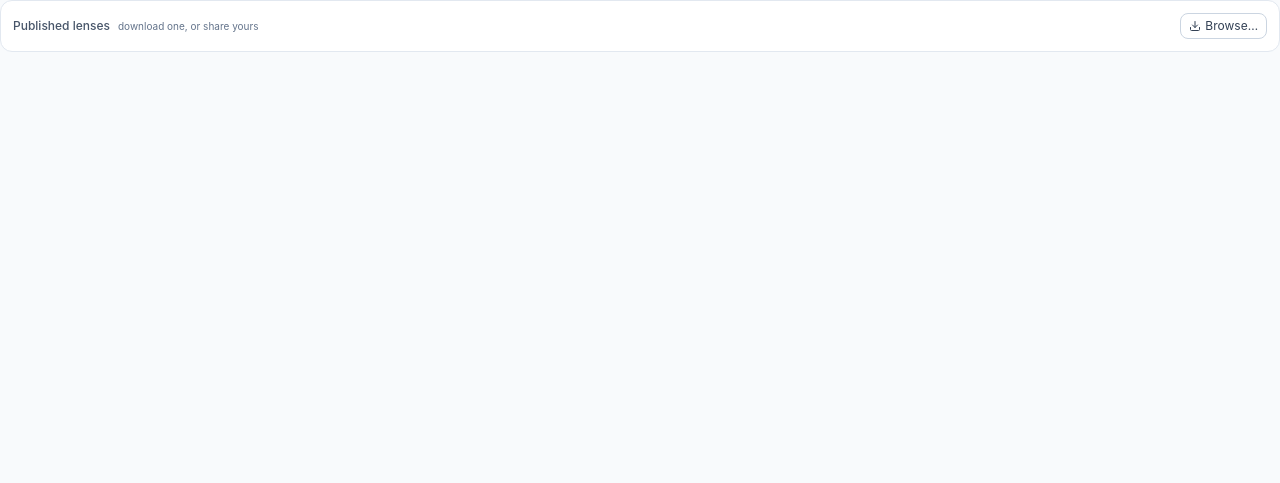
it: acquiring › cannot acquire until a file is chosen
This screenshot has width=1280, height=483.
Click the button "Browse…" at (1224, 26), box [1180,13,1267,39]
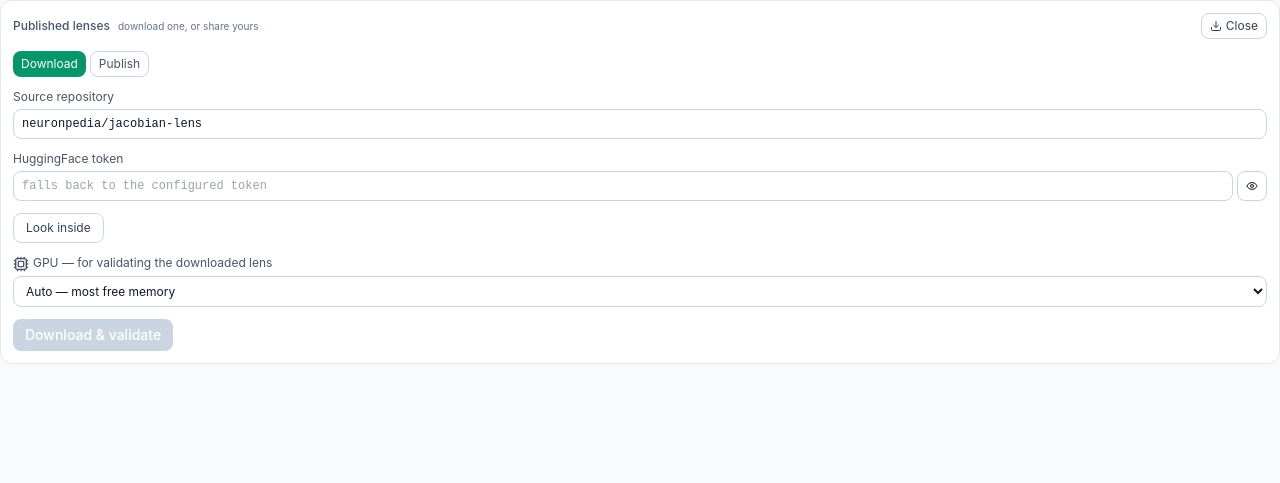
Click the button "Look inside" at (58, 228), box [13,213,104,243]
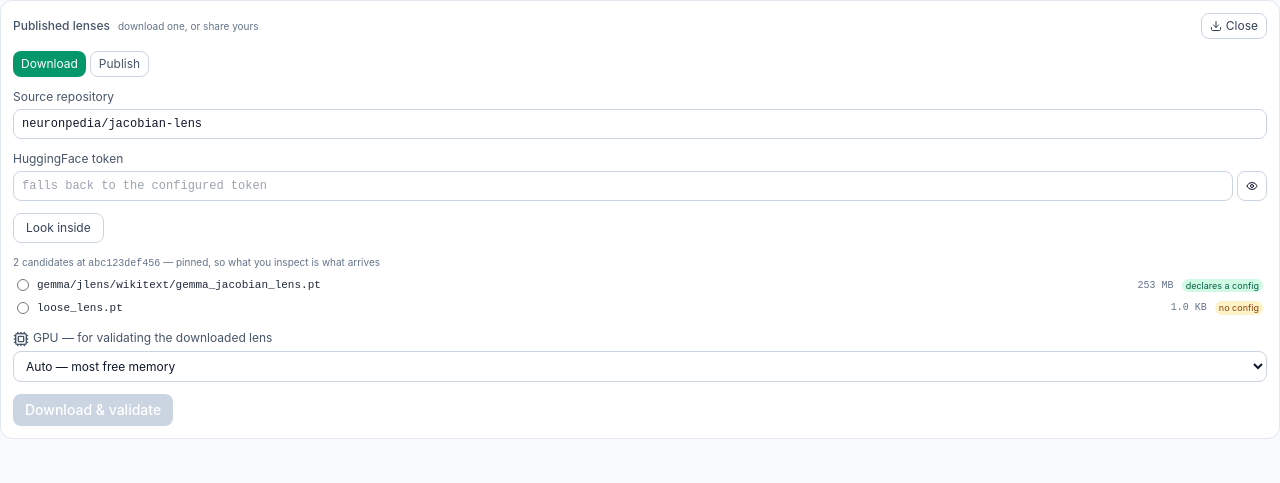
Result: the button with test id "jlens-acquire-run" is disabled at [13,394,173,426]
Result: the text "2 candidates" is shown at [13,256,380,269]
Click the 1st radio button at (23, 285), box [17,279,29,291]
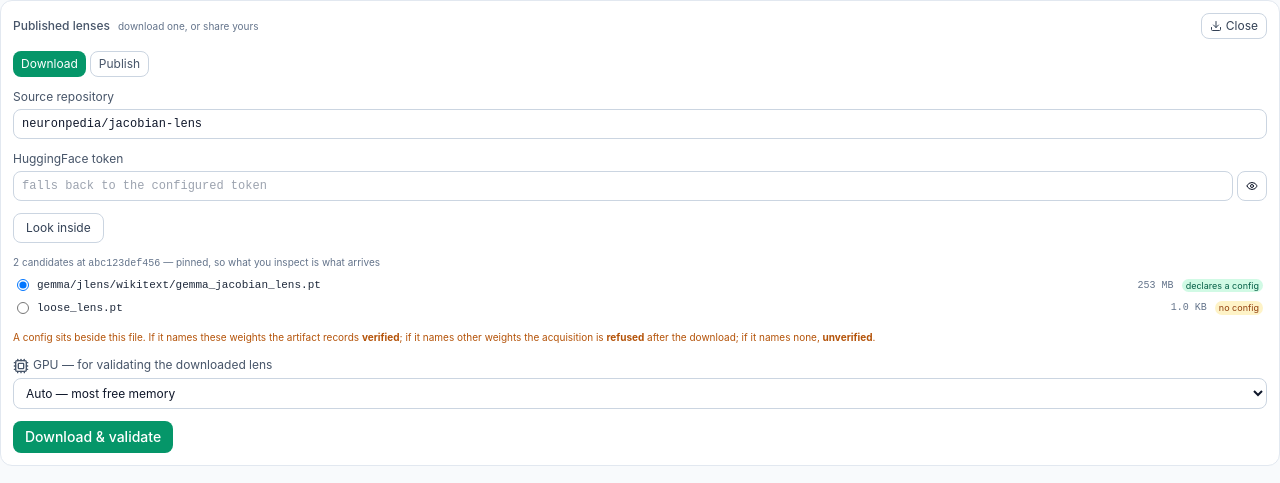
Result: the button with test id "jlens-acquire-run" is enabled at [13,421,173,453]
